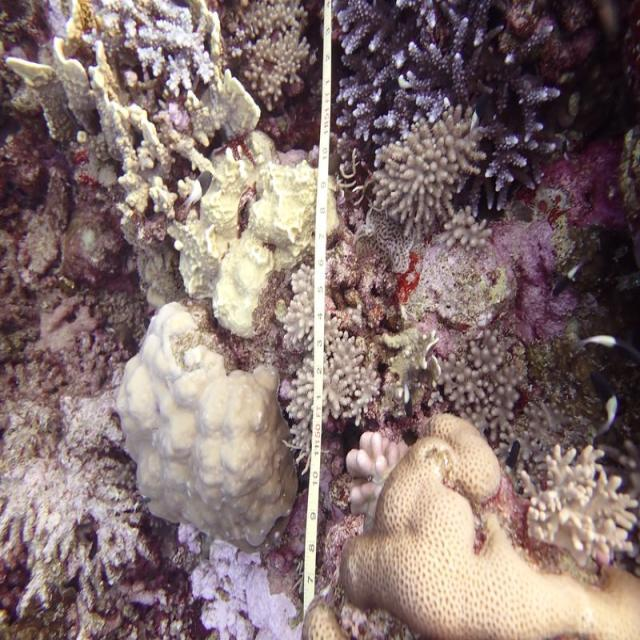Bleached Coral: (76, 105, 342, 290), (111, 298, 299, 558), (4, 364, 128, 614), (49, 0, 247, 111), (154, 530, 341, 640)
